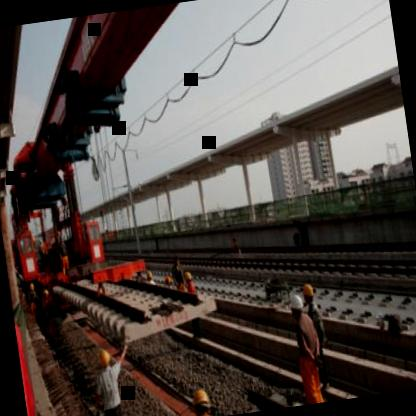helmet: (189, 384, 215, 416), (287, 290, 305, 322), (96, 346, 113, 374), (300, 281, 318, 307), (181, 268, 195, 284)
